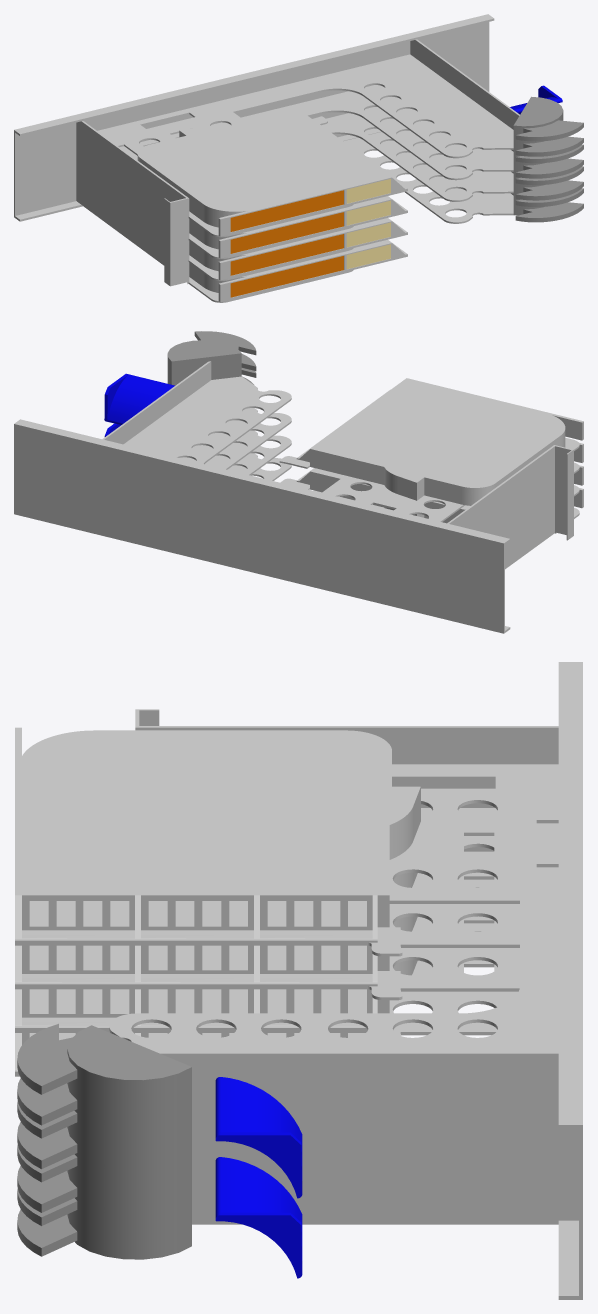
The model's file is Chassis-LISA-2U-L.glb.
3 views of the same model, one above another, from view 1: azimuth 30°, elevation 25°; view 2: azimuth 150°, elevation 25°; view 3: azimuth 270°, elevation 25° (orthographic). The views are drawn at different scales.
Parts seen in each view (by area): view 1: Geom3D (×17), Geom3D_ (×12); view 2: Geom3D_ (×6), Geom3D (×6); view 3: Geom3D (×9), Geom3D_ (×17).
Boxes of the visible parts, <box> form: Geom3D (×17): <box>15,18,513,302</box>; Geom3D_ (×12): <box>14,14,583,286</box>; Geom3D_ (×6): <box>14,331,573,633</box>; Geom3D (×6): <box>123,376,583,569</box>; Geom3D (×9): <box>15,727,578,1295</box>; Geom3D_ (×17): <box>17,662,582,1299</box>.
Size of the model in its own units: 0.5 by 0.0904 by 0.2592.
